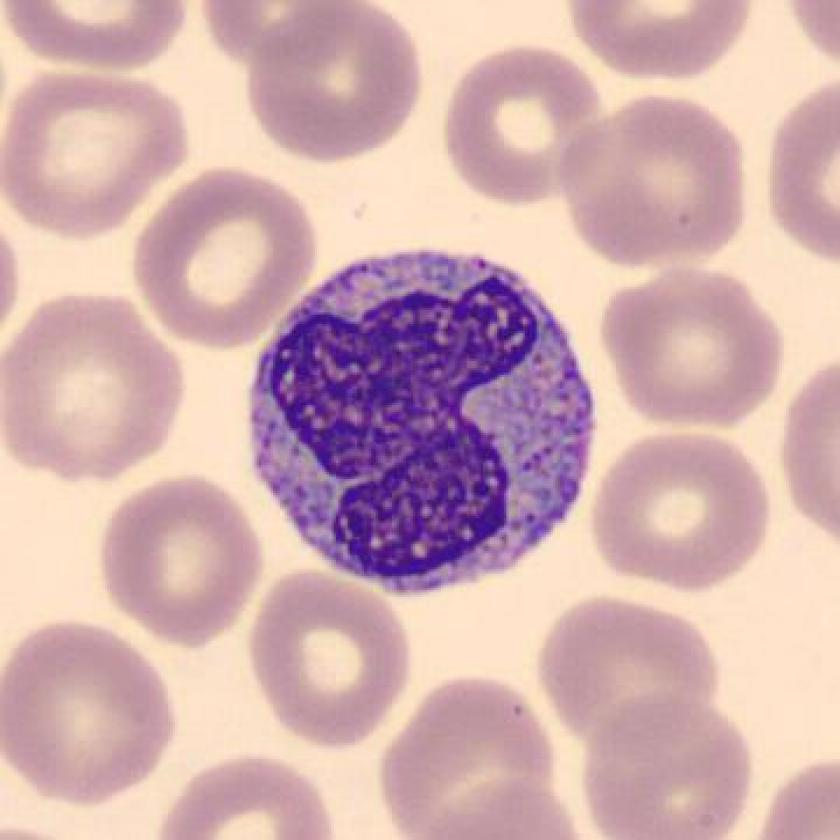monocyte: (227, 230, 622, 612)
